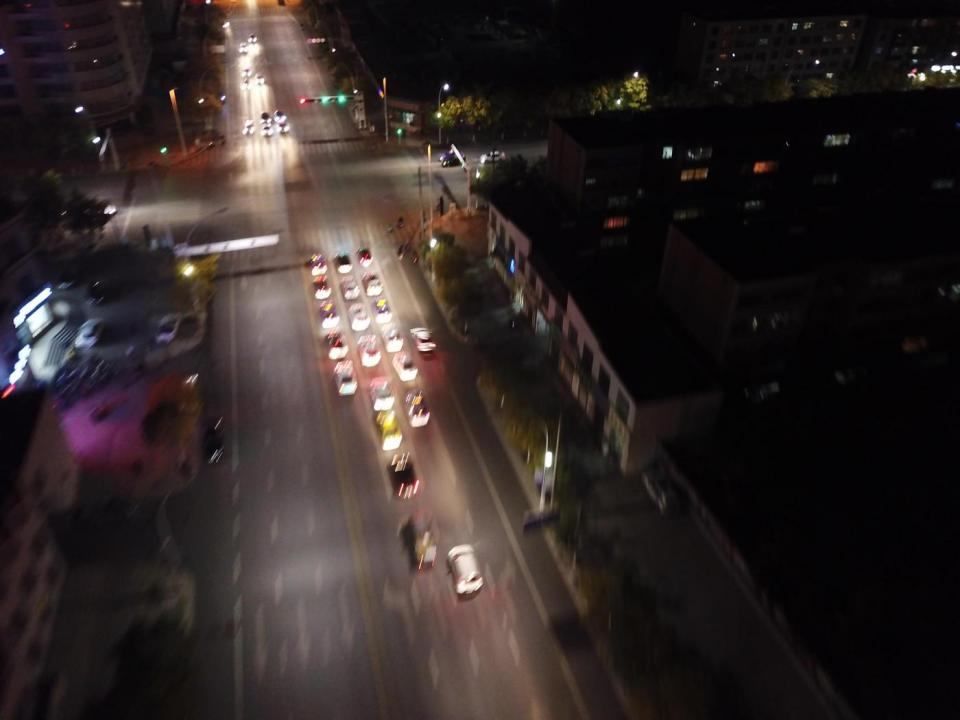car: (402, 512, 440, 571), (641, 464, 682, 516), (449, 543, 484, 595), (392, 452, 419, 496), (200, 415, 224, 463), (405, 389, 430, 426), (376, 412, 400, 448), (155, 312, 180, 344), (87, 280, 119, 305), (371, 376, 394, 410), (56, 264, 83, 291), (359, 334, 381, 366), (393, 352, 417, 381), (335, 362, 356, 395), (326, 331, 348, 360), (411, 326, 435, 352), (348, 302, 370, 330), (382, 322, 402, 352), (320, 300, 339, 330), (371, 297, 392, 323), (362, 272, 383, 296), (340, 276, 359, 300), (314, 276, 331, 299), (90, 201, 116, 216), (357, 245, 373, 267), (480, 150, 506, 163), (312, 254, 328, 275), (336, 252, 352, 273), (438, 150, 465, 162), (442, 156, 467, 167), (243, 120, 254, 133), (261, 123, 272, 136), (260, 112, 272, 123), (275, 109, 285, 122), (278, 123, 289, 134), (255, 73, 265, 84), (241, 80, 252, 89), (239, 43, 247, 52), (248, 34, 256, 42), (242, 68, 250, 75)
van: (75, 317, 103, 349)
